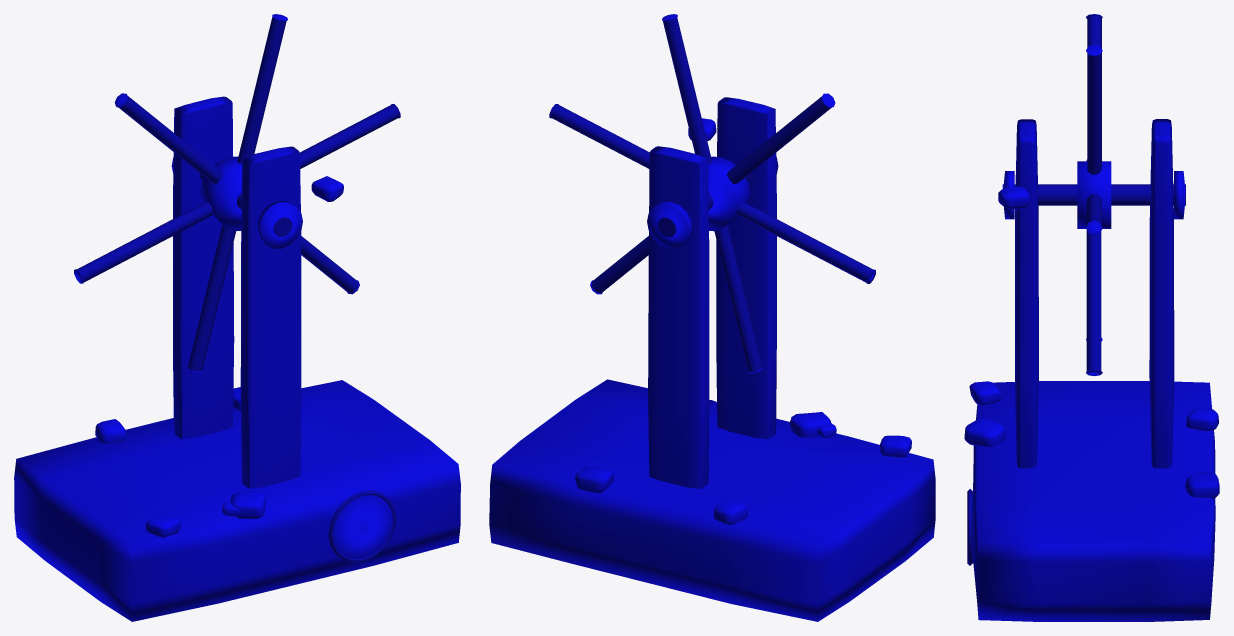
File: gauge_wheel_cut.glb
3 renders of one model, left to right at view 1: azimuth 30°, elevation 25°; view 2: azimuth 150°, elevation 25°; view 3: azimuth 270°, elevation 25°, orthographic.
Parts seen in each view (by area): view 1: gauge_wheel_cut; view 2: gauge_wheel_cut; view 3: gauge_wheel_cut.
Part boxes in pixels (x1,y1,x2,y2): gauge_wheel_cut: [14, 14, 460, 621]; gauge_wheel_cut: [489, 14, 935, 621]; gauge_wheel_cut: [964, 14, 1219, 621].
Size of what is drawn, in the model's own units: 1.6 by 2.37 by 1.06.
